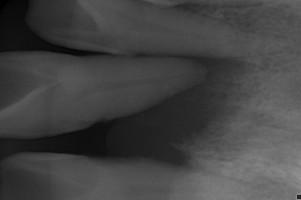Dental Caries: (105, 57, 260, 165)
